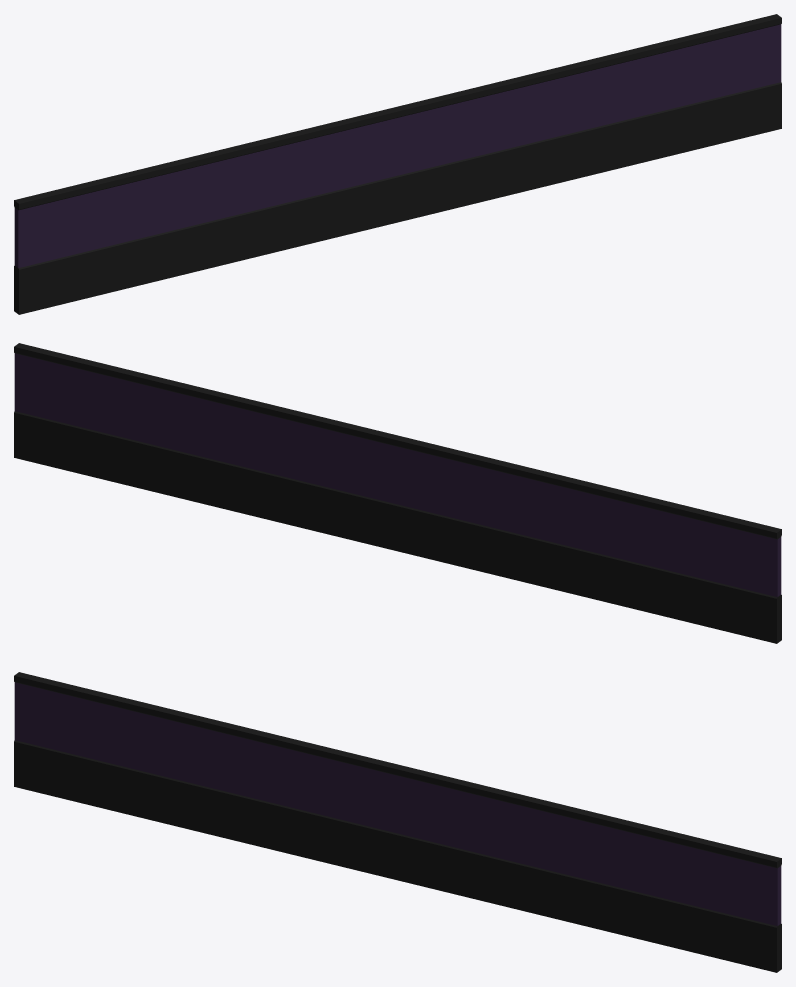
File: Wall.fbx
The picture shows the model from 3 angles, top to bottom: view 1: azimuth 30°, elevation 25°; view 2: azimuth 150°, elevation 25°; view 3: azimuth 330°, elevation 25°; orthographic projection.
Visible parts, largest first — view 1: Classic_Wall_snaps001 (63), Classic_Wall_snaps001 (56), Classic_Wall_snaps001 (49), Classic_Wall_snaps001 (55), Classic_Wall_snaps001 (57), Classic_Wall_snaps001 (58), Classic_Wall_snaps001 (59); view 2: Classic_Wall_snaps001 (63), Classic_Wall_snaps001 (56), Classic_Wall_snaps001 (49), Classic_Wall_snaps001 (55), Classic_Wall_snaps001 (57), Classic_Wall_snaps001 (58), Classic_Wall_snaps001 (59); view 3: Classic_Wall_snaps001 (63), Classic_Wall_snaps001 (55), Classic_Wall_snaps001 (49), Classic_Wall_snaps001 (57), Classic_Wall_snaps001 (58), Classic_Wall_snaps001 (56), Classic_Wall_snaps001 (59).
Part boxes in pixels (bbox=[...]): Classic_Wall_snaps001 (63): bbox=[14, 169, 145, 314]; Classic_Wall_snaps001 (56): bbox=[459, 66, 569, 206]; Classic_Wall_snaps001 (49): bbox=[565, 40, 675, 180]; Classic_Wall_snaps001 (55): bbox=[671, 14, 781, 154]; Classic_Wall_snaps001 (57): bbox=[247, 117, 357, 257]; Classic_Wall_snaps001 (58): bbox=[353, 91, 463, 231]; Classic_Wall_snaps001 (59): bbox=[141, 143, 251, 283]; Classic_Wall_snaps001 (63): bbox=[650, 498, 781, 643]; Classic_Wall_snaps001 (56): bbox=[226, 395, 336, 535]; Classic_Wall_snaps001 (49): bbox=[120, 369, 230, 509]; Classic_Wall_snaps001 (55): bbox=[14, 343, 124, 483]; Classic_Wall_snaps001 (57): bbox=[438, 446, 548, 586]; Classic_Wall_snaps001 (58): bbox=[332, 420, 442, 560]; Classic_Wall_snaps001 (59): bbox=[544, 472, 654, 612]; Classic_Wall_snaps001 (63): bbox=[14, 672, 144, 817]; Classic_Wall_snaps001 (55): bbox=[670, 832, 781, 972]; Classic_Wall_snaps001 (49): bbox=[564, 806, 675, 946]; Classic_Wall_snaps001 (57): bbox=[246, 729, 356, 869]; Classic_Wall_snaps001 (58): bbox=[352, 754, 463, 895]; Classic_Wall_snaps001 (56): bbox=[458, 780, 569, 920]; Classic_Wall_snaps001 (59): bbox=[140, 703, 251, 843].
Bounding box in the file's own units: 21.58 × 3 × 0.25.
